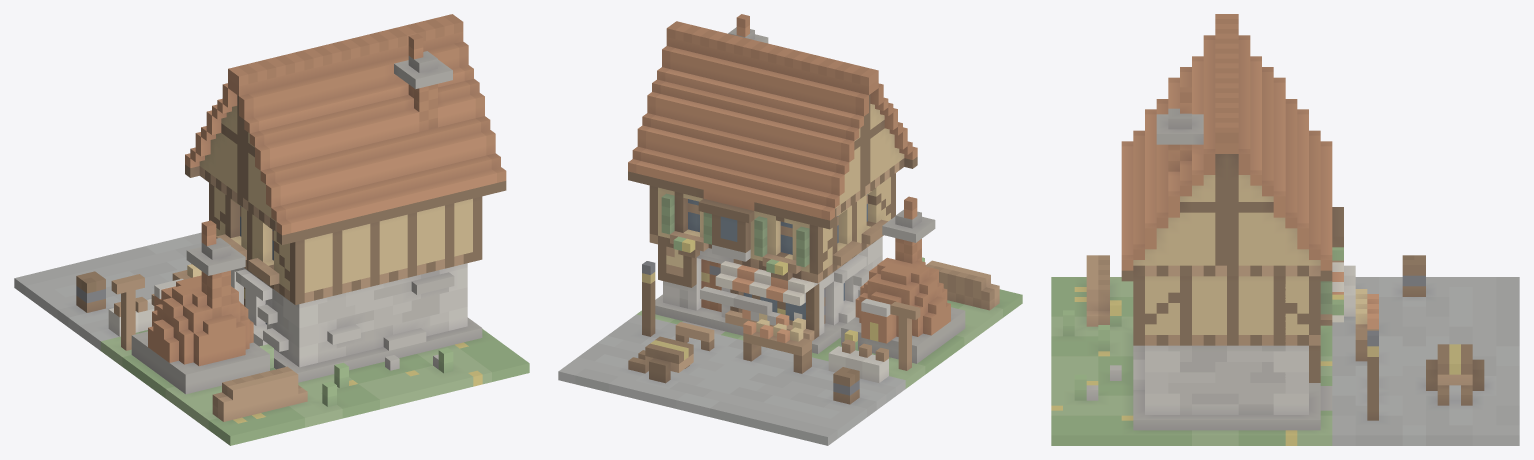
The model's file is pastry_kitchen.glb.
3 renders of one model, left to right at view 1: azimuth 30°, elevation 25°; view 2: azimuth 150°, elevation 25°; view 3: azimuth 270°, elevation 25°, orthographic. The views are drawn at different scales.
Visible parts, largest first — view 1: pastry_kitchen; view 2: pastry_kitchen; view 3: pastry_kitchen.
Part boxes in pixels (box(x1,y1,x2,y2)): pastry_kitchen: box(14, 14, 529, 445); pastry_kitchen: box(558, 14, 1022, 445); pastry_kitchen: box(1051, 14, 1519, 445).
Size of the model in its own units: 4.12 by 3.88 by 5.
